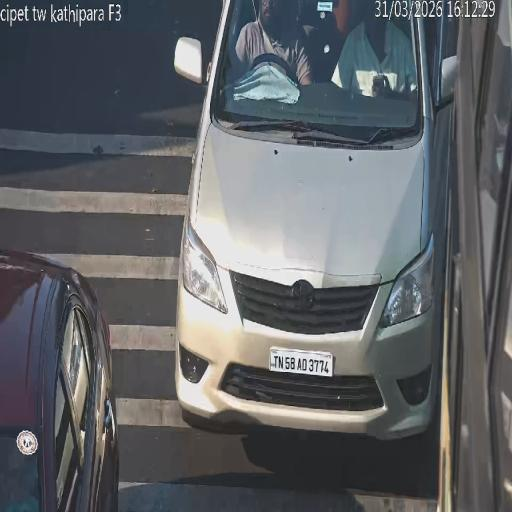person_with_seatbelt: (249, 0, 284, 70)
person_without_seatbelt: (350, 28, 408, 92)
